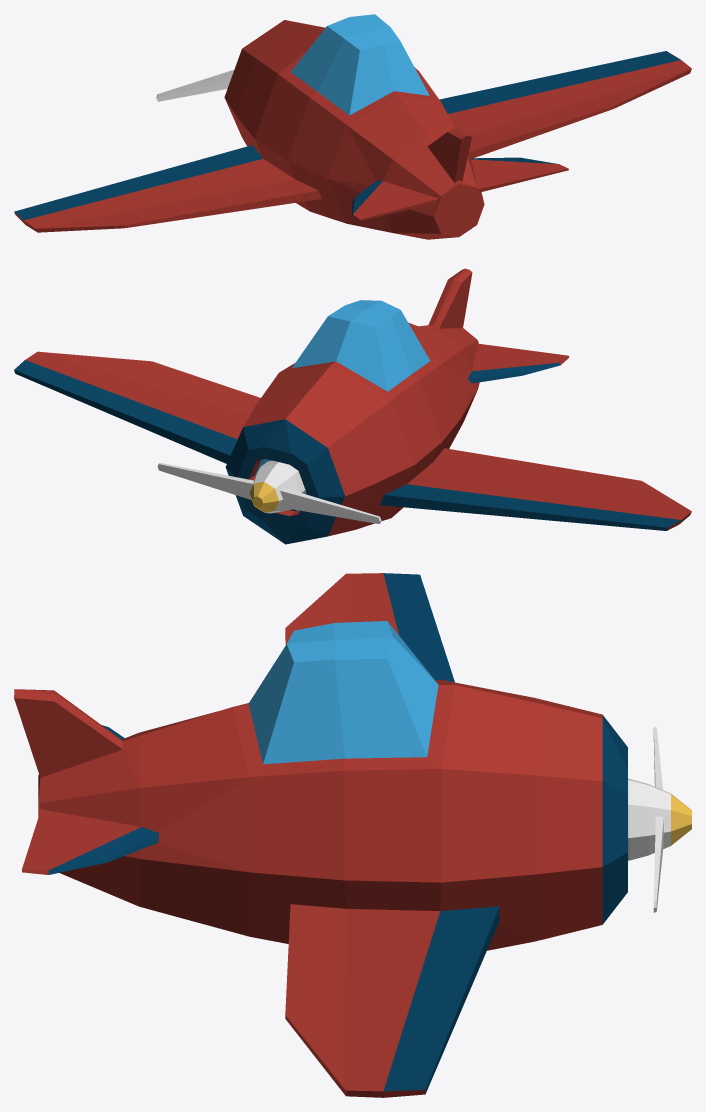
The model's file is plane_only.glb.
The picture shows the model from 3 angles, top to bottom: view 1: azimuth 30°, elevation 25°; view 2: azimuth 150°, elevation 25°; view 3: azimuth 270°, elevation 25°; orthographic projection. The views are drawn at different scales.
Visible parts, largest first — view 1: plane, propeller; view 2: plane, propeller; view 3: plane, propeller.
Boxes of the visible parts, bbox=[...] form: plane: bbox=[14, 14, 691, 239]; propeller: bbox=[156, 70, 233, 101]; plane: bbox=[14, 268, 691, 544]; propeller: bbox=[157, 460, 381, 523]; plane: bbox=[14, 573, 627, 1097]; propeller: bbox=[628, 727, 691, 912].
Size of the model in its own units: 8.1 by 2.31 by 4.48.
